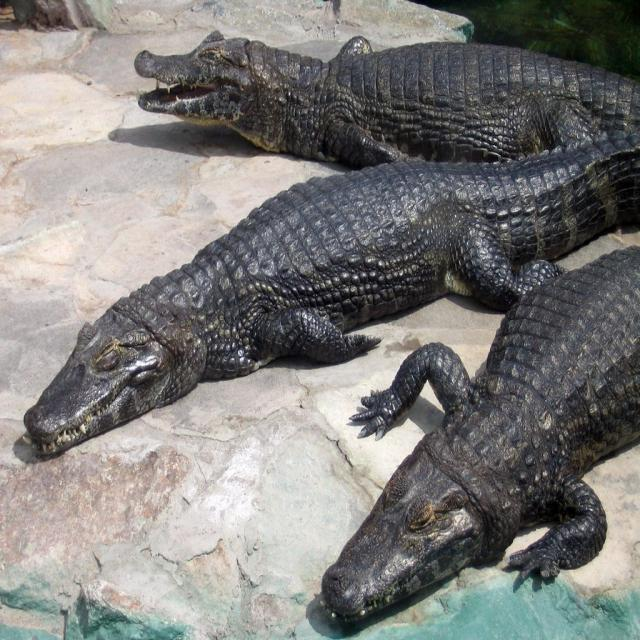crocodile: (5, 97, 639, 488)
